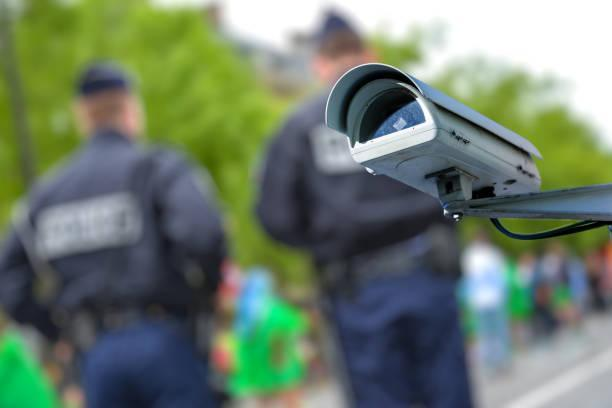camera: (301, 45, 572, 238)
